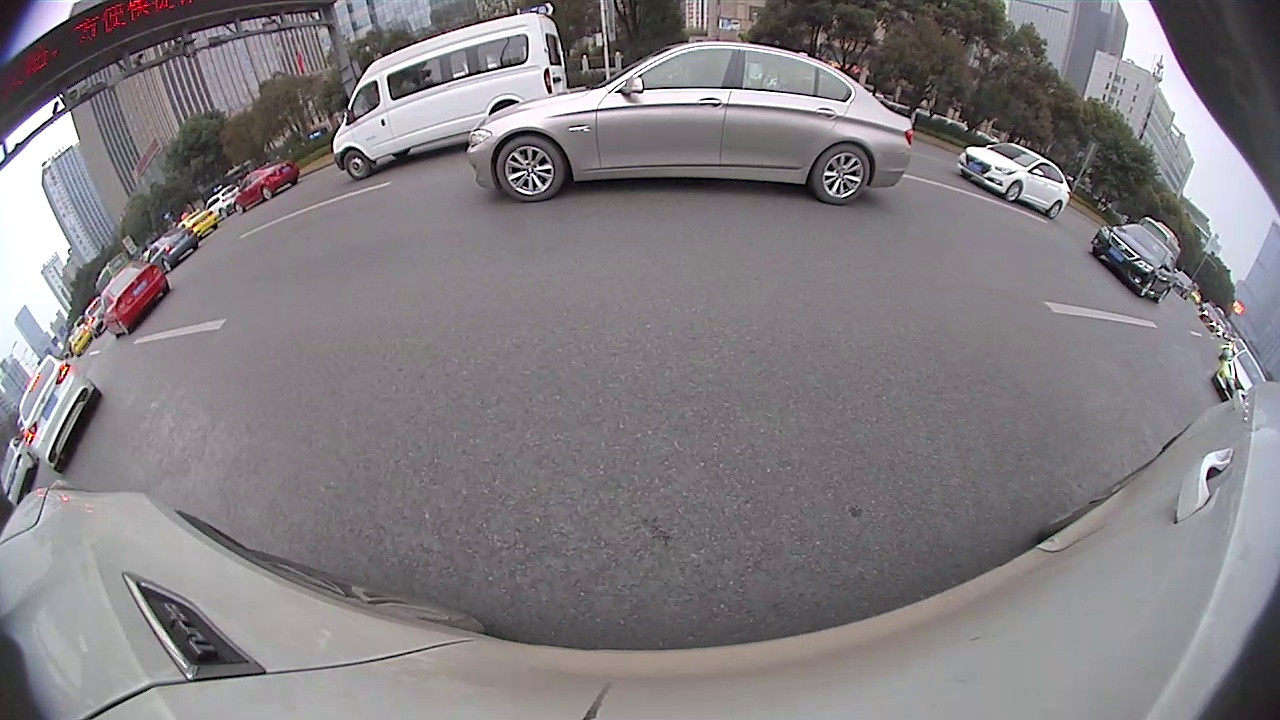car: (469, 41, 911, 203), (332, 11, 568, 179), (18, 356, 101, 473), (957, 145, 1068, 218), (1095, 223, 1169, 305), (99, 261, 172, 336), (228, 160, 299, 213), (1213, 347, 1263, 400)
front: (492, 134, 570, 204), (343, 150, 372, 179), (1005, 181, 1024, 203), (1138, 278, 1156, 299), (233, 205, 244, 216)
rear: (811, 144, 876, 207), (1047, 203, 1063, 221), (163, 260, 173, 272), (263, 189, 273, 200)
